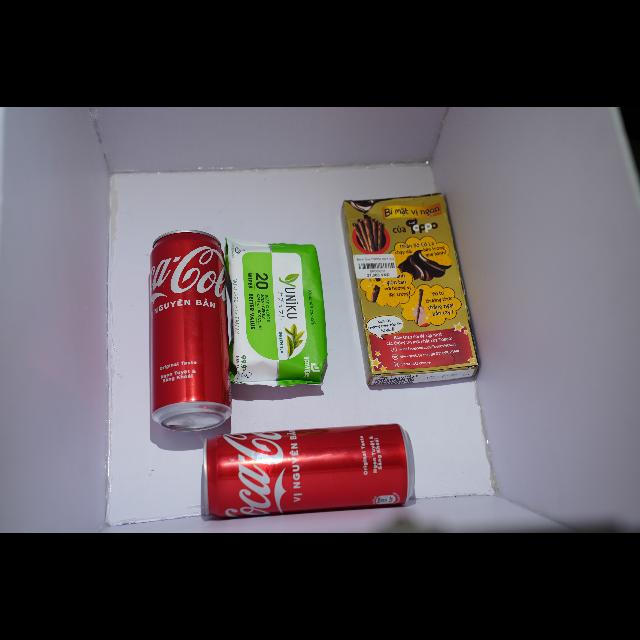banh_toppo_socola: (343, 193, 478, 385)
coca_cola: (203, 425, 414, 518), (149, 230, 231, 432)
khan_giay: (226, 238, 327, 386)
